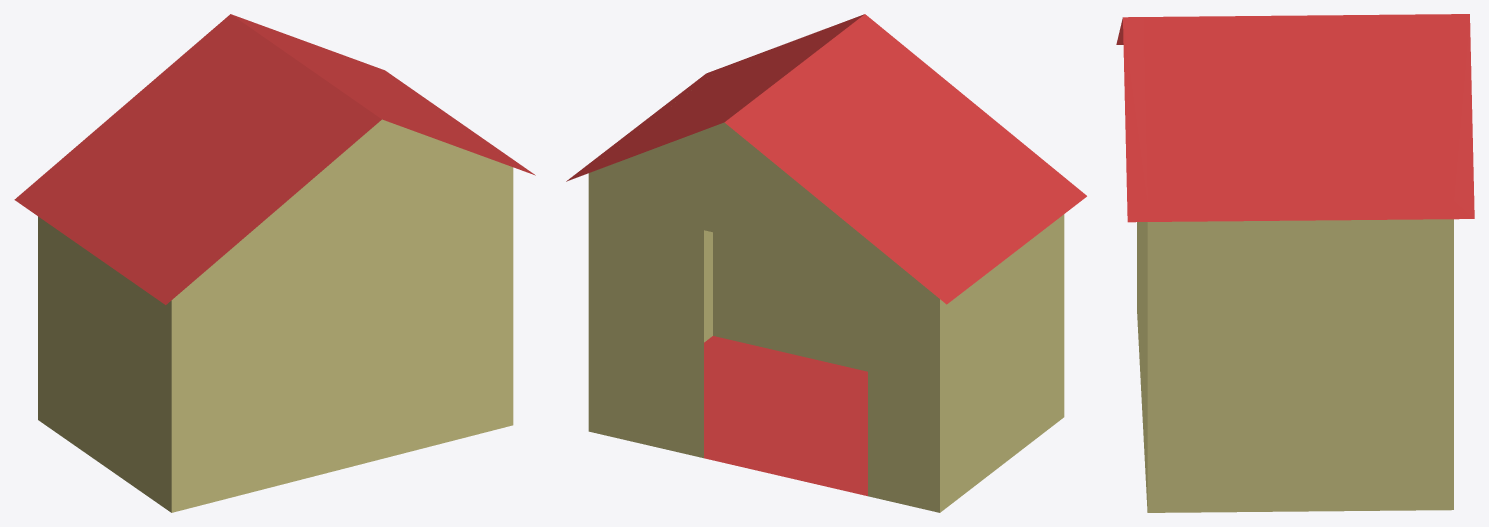
3 renders of one model, left to right at view 1: azimuth 30°, elevation 25°; view 2: azimuth 150°, elevation 25°; view 3: azimuth 270°, elevation 25°, orthographic. The views are drawn at different scales.
Bounding box in the file's own units: 12.86 × 8.81 × 11.22.
